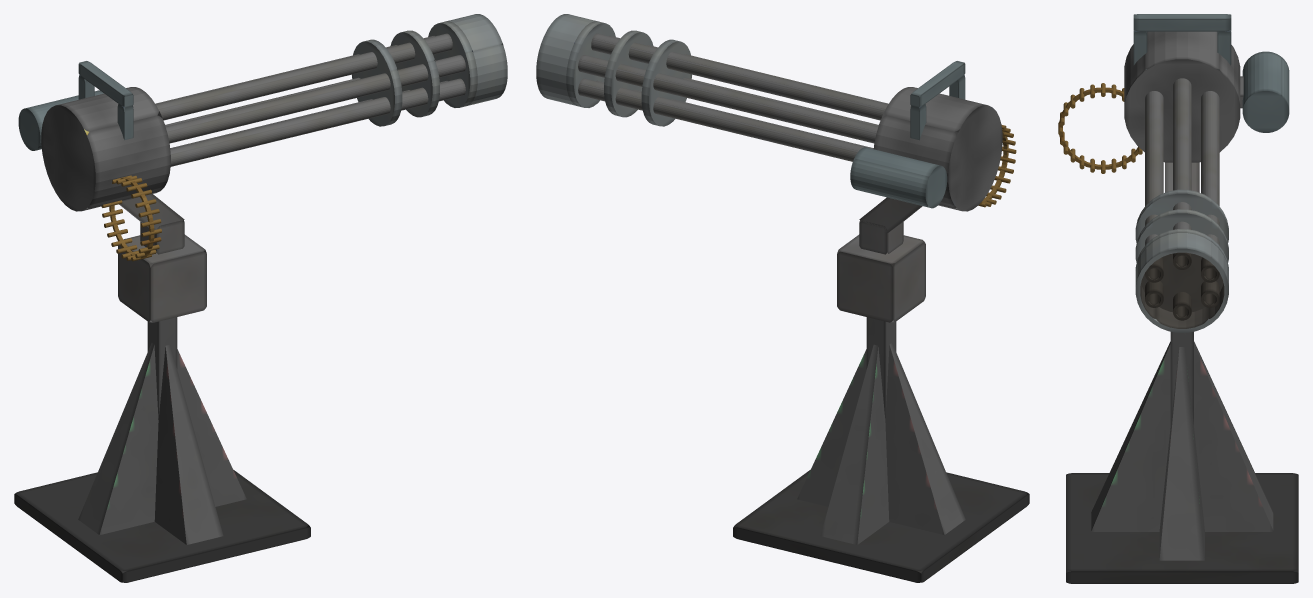
File: gatlingGun.fbx
3 renders of one model, left to right at view 1: azimuth 30°, elevation 25°; view 2: azimuth 150°, elevation 25°; view 3: azimuth 270°, elevation 25°, orthographic. The views are drawn at different scales.
Parts seen in each view (by area): view 1: cuboid, cylinder_3, pyramid_3, pyramid, cuboid_2, tube_3, tube_2, tube, pyramid_1, tube_6, cylinder_1, cylinder (+7 smaller); view 2: cuboid, cylinder_3, pyramid_3, pyramid_2, cuboid_2, tube_4, tube, tube_5, cylinder_4, pyramid_1, tube_6, cylinder_1 (+6 smaller); view 3: cuboid, cylinder_3, pyramid, pyramid_2, pyramid_1, tube_6, cylinder_4, tube, tube_4, tube_3, cylinder_2, cuboid_5 (+10 smaller).
Part boxes in pixels (<box>): cuboid: <box>14,470,310,582</box>; cylinder_3: <box>41,87,170,211</box>; pyramid_3: <box>78,343,158,535</box>; pyramid: <box>154,344,223,544</box>; cuboid_2: <box>118,234,206,322</box>; tube_3: <box>165,55,465,143</box>; tube_2: <box>170,78,465,166</box>; tube: <box>156,33,452,120</box>; pyramid_1: <box>177,349,246,506</box>; tube_6: <box>447,14,507,105</box>; cylinder_1: <box>352,39,402,126</box>; cylinder: <box>390,30,439,117</box>; cuboid: <box>733,470,1029,582</box>; cylinder_3: <box>873,87,1002,211</box>; pyramid_3: <box>885,343,965,535</box>; pyramid_2: <box>820,344,889,544</box>; cuboid_2: <box>837,234,925,322</box>; tube_4: <box>578,55,878,143</box>; tube: <box>591,33,887,120</box>; tube_5: <box>578,78,872,161</box>; cylinder_4: <box>850,147,947,208</box>; pyramid_1: <box>797,349,866,506</box>; tube_6: <box>536,14,596,105</box>; cylinder_1: <box>641,39,691,126</box>; cuboid: <box>1066,473,1298,583</box>; cylinder_3: <box>1124,31,1240,162</box>; pyramid: <box>1091,341,1170,531</box>; pyramid_2: <box>1194,341,1273,531</box>; pyramid_1: <box>1159,347,1204,560</box>; tube_6: <box>1135,233,1228,332</box>; cylinder_4: <box>1242,51,1289,132</box>; tube: <box>1173,78,1191,269</box>; tube_4: <box>1201,91,1219,282</box>; tube_3: <box>1145,91,1163,282</box>; cylinder_2: <box>1135,229,1228,312</box>; cuboid_5: <box>1133,14,1231,31</box>.
Bounding box in the file's own units: 69.37 × 72.5 × 32.28.
2 materials, 2 textured.
